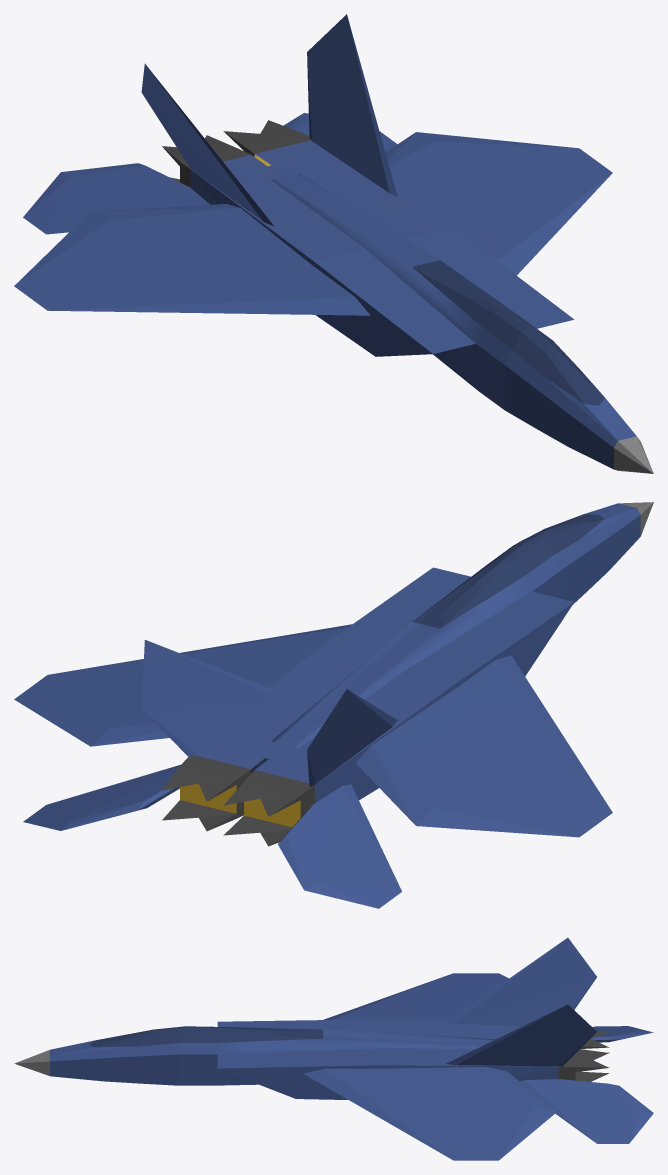
3 views of the same model, one above another, from view 1: azimuth 30°, elevation 25°; view 2: azimuth 150°, elevation 25°; view 3: azimuth 270°, elevation 25° (orthographic). The views are drawn at different scales.
Parts seen in each view (by area): view 1: Cube.002, Cube, Cube.001, Cube.007, Cube.003; view 2: Cube.002, Cube, Cube.001, Cube.003, Cube.007; view 3: Cube.002, Cube.001, Cube, Cube.007, Cube.003.
Part boxes in pixels (x1=…): Cube.002: x1=14, y1=132, x2=612, y2=315; Cube: x1=162, y1=120, x2=573, y2=356; Cube.001: x1=268, y1=165, x2=653, y2=473; Cube.007: x1=141, y1=14, x2=397, y2=226; Cube.003: x1=23, y1=113, x2=397, y2=234; Cube.002: x1=14, y1=624, x2=612, y2=837; Cube: x1=162, y1=567, x2=574, y2=846; Cube.001: x1=251, y1=502, x2=653, y2=772; Cube.003: x1=23, y1=764, x2=401, y2=908; Cube.007: x1=141, y1=640, x2=397, y2=786; Cube.002: x1=303, y1=973, x2=557, y2=1160; Cube.001: x1=14, y1=1026, x2=495, y2=1085; Cube: x1=217, y1=1019, x2=609, y2=1099; Cube.007: x1=446, y1=937, x2=596, y2=1066; Cube.003: x1=520, y1=1026, x2=653, y2=1143.
Bounding box in the file's own units: 11.15 × 3.17 × 16.1.
